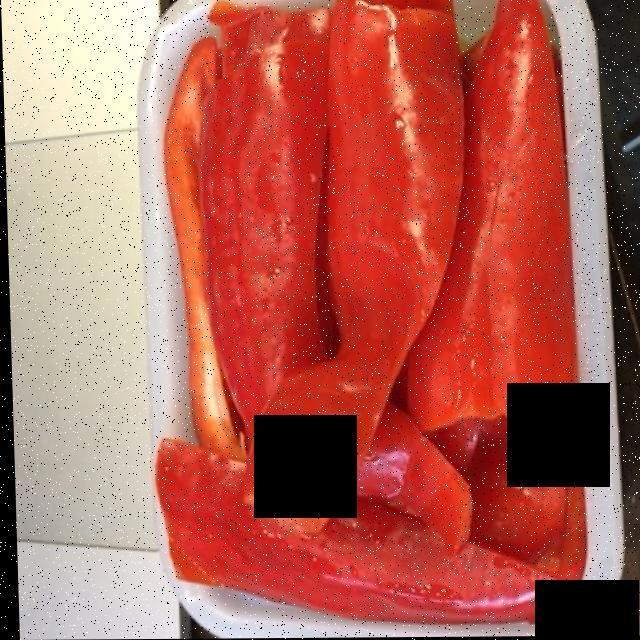bell-pepper: (160, 9, 569, 607)
